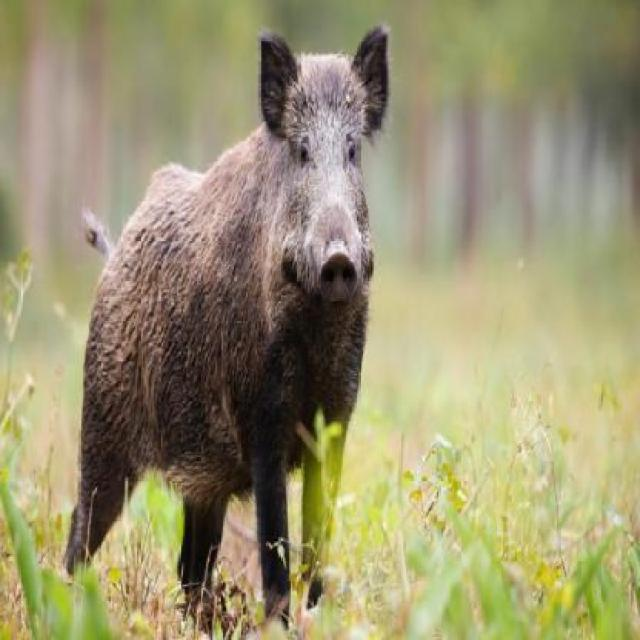wildboar: (58, 18, 394, 640)
